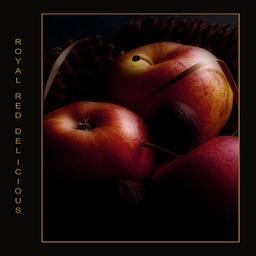apple: (110, 43, 236, 151), (45, 101, 158, 181)
